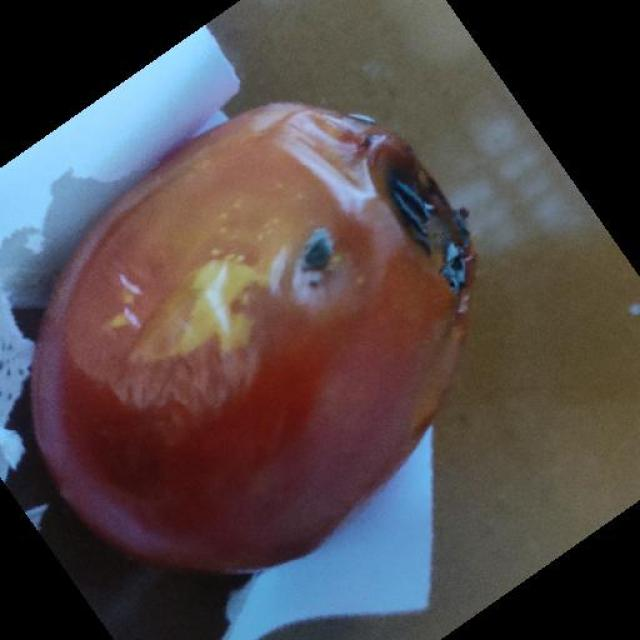Stale_tomato: (73, 89, 463, 526)
